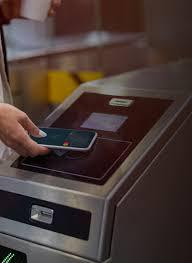Smartphone: (26, 126, 89, 149)
